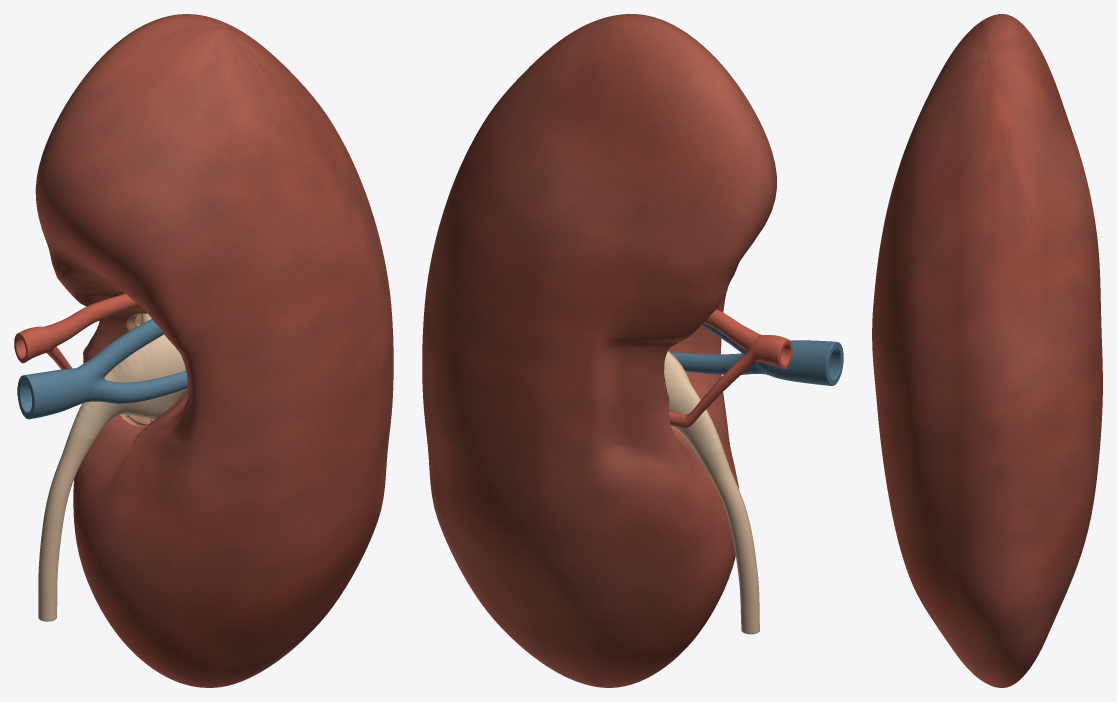
Rendered from whole.glb.
3 renders of one model, left to right at view 1: azimuth 30°, elevation 25°; view 2: azimuth 150°, elevation 25°; view 3: azimuth 270°, elevation 25°, orthographic. The views are drawn at different scales.
Parts seen in each view (by area): view 1: CORTEX_L.anterior, VEIN_L, CORTEX_L.posterior, HILAR_SUPPORT_L, URETER_L, PELVIS_L, ARTERY_L, MAJOR_CALYX_L.03; view 2: CORTEX_L.posterior, CORTEX_L.anterior, VEIN_L, URETER_L, ARTERY_L, PELVIS_L; view 3: CORTEX_L.anterior, CORTEX_L.posterior.
Part boxes in pixels (box(x1,y1,x2,y2)): CORTEX_L.anterior: box(44, 16, 393, 687); VEIN_L: box(17, 319, 187, 419); CORTEX_L.posterior: box(35, 14, 234, 659); HILAR_SUPPORT_L: box(74, 283, 188, 451); URETER_L: box(38, 430, 94, 621); PELVIS_L: box(71, 336, 187, 440); ARTERY_L: box(14, 293, 139, 369); MAJOR_CALYX_L.03: box(120, 399, 171, 420); CORTEX_L.posterior: box(422, 16, 770, 687); CORTEX_L.anterior: box(573, 14, 776, 656); VEIN_L: box(670, 323, 843, 385); URETER_L: box(698, 447, 759, 634); ARTERY_L: box(669, 309, 792, 428); PELVIS_L: box(664, 351, 722, 456); CORTEX_L.anterior: box(872, 14, 1001, 687); CORTEX_L.posterior: box(1002, 14, 1102, 687).
Size of the model in its own units: 0.0675 by 0.1144 by 0.0379.
Materials: 12 (5 with a texture image).
